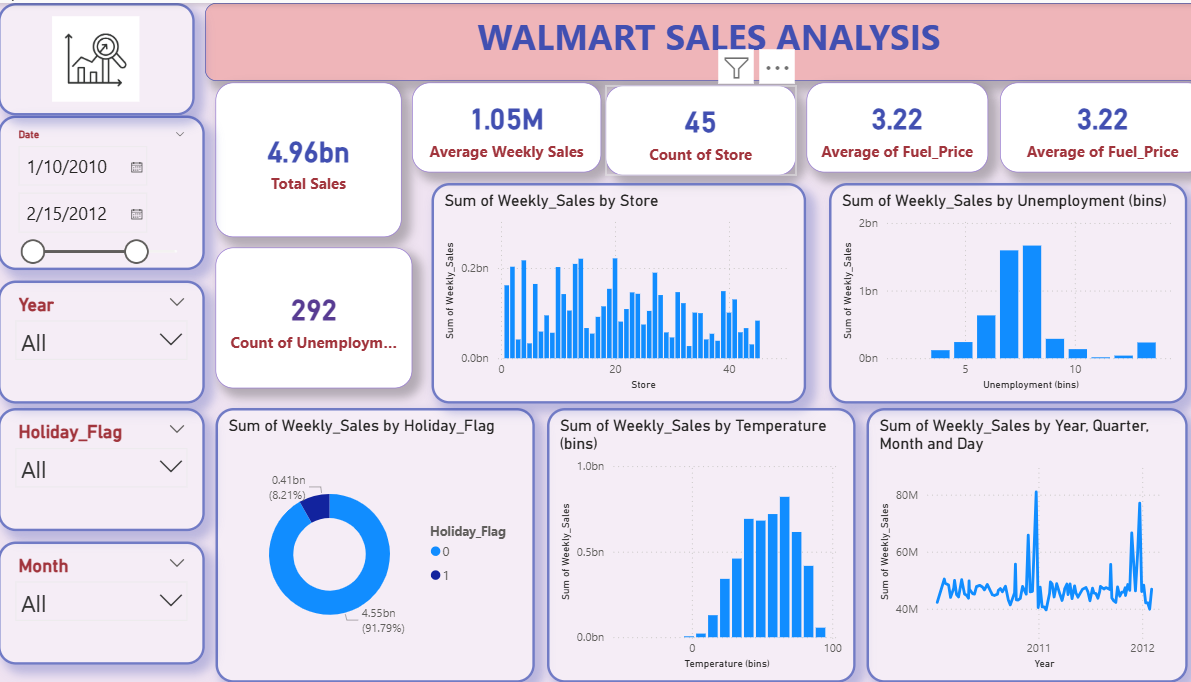

This screenshot's page, from the dashboard's own definition file:
{"tool":"powerbi","page":{"name":"Page 1","canvas":[1280,720],"ordinal":0},"visuals":[{"type":"textbox","box":[219.5,0,1059.3,82.7],"z":0},{"type":"card","fields":{"Values":["Sum(Walmart_Sales.Weekly_Sales)"]},"box":[230.6,84.3,197.2,163.8],"z":1000},{"type":"card","fields":{"Values":["Avg(Walmart_Sales.Weekly_Sales)"]},"box":[439,84.3,200.4,95.4],"z":2000},{"type":"slicer","fields":{"Values":["Walmart_Sales.Date"]},"box":[0,119.3,219.5,163.8],"z":3000},{"type":"card","fields":{"Values":["Count(Walmart_Sales.Store)"]},"box":[644.2,87.5,202,95.4],"z":4000},{"type":"card","fields":{"Values":["Avg(Walmart_Sales.Fuel_Price)"]},"box":[857.3,84.3,192.5,95.4],"z":5000},{"type":"card","fields":{"Values":["Avg(Walmart_Sales.Fuel_Price)"]},"box":[1062.5,84.3,217.9,95.4],"z":6000},{"type":"slicer","fields":{"Values":["Walmart_Sales.Date.Variation.Date Hierarchy.Year"]},"box":[0,294.3,219.5,130.4],"z":7000},{"type":"donutChart","fields":{"Category":["Walmart_Sales.Holiday_Flag"],"Y":["Sum(Walmart_Sales.Weekly_Sales)"]},"box":[230.6,429.5,338.8,291.1],"z":8000},{"type":"clusteredColumnChart","fields":{"Y":["Sum(Walmart_Sales.Weekly_Sales)"],"Category":["Walmart_Sales.Store"]},"box":[459.7,190.9,397.7,233.8],"z":9000},{"type":"columnChart","fields":{"Category":["Walmart_Sales.Unemployment (bins)"],"Y":["Sum(Walmart_Sales.Weekly_Sales)"]},"box":[881.2,190.9,380.2,233.8],"z":10000},{"type":"columnChart","fields":{"Category":["Walmart_Sales.Temperature (bins)"],"Y":["Sum(Walmart_Sales.Weekly_Sales)"]},"box":[582.2,429.5,327.7,291.1],"z":11000},{"type":"slicer","fields":{"Values":["Walmart_Sales.Holiday_Flag"]},"box":[0,429.5,219.5,130.4],"z":12000},{"type":"slicer","fields":{"Values":["Walmart_Sales.Date.Variation.Date Hierarchy.Month"]},"box":[0,571,219.5,130.4],"z":13000},{"type":"lineChart","fields":{"Y":["Sum(Walmart_Sales.Weekly_Sales)"],"Category":["Walmart_Sales.Date.Variation.Date Hierarchy.Year","Walmart_Sales.Date.Variation.Date Hierarchy.Quarter","Walmart_Sales.Date.Variation.Date Hierarchy.Month","Walmart_Sales.Date.Variation.Date Hierarchy.Day"]},"box":[921,429.5,340.4,291.1],"z":14000},{"type":"card","fields":{"Values":["Count(Walmart_Sales.Unemployment)"]},"box":[230.6,259.3,208.4,149.5],"z":15000},{"type":"image","box":[0,0,208.4,119.3],"z":15001}]}

Visuals, with their boxes in screenshot pixels (x1, y1, x2, y2), scaled from the page's 1280x720 canvas onto the 1191x682 screenshot:
textbox: 204/0/1190/78
card - Sum(Walmart_Sales.Weekly_Sales): 215/80/398/235
card - Avg(Walmart_Sales.Weekly_Sales): 408/80/595/170
slicer - Walmart_Sales.Date: 0/113/204/268
card - Count(Walmart_Sales.Store): 599/83/787/173
card - Avg(Walmart_Sales.Fuel_Price): 798/80/977/170
card - Avg(Walmart_Sales.Fuel_Price): 989/80/1190/170
slicer - Walmart_Sales.Date.Variation.Date Hierarchy.Year: 0/279/204/402
donutChart - Walmart_Sales.Holiday_Flag x Sum(Walmart_Sales.Weekly_Sales): 215/407/530/681
clusteredColumnChart - Sum(Walmart_Sales.Weekly_Sales) x Walmart_Sales.Store: 428/181/798/402
columnChart - Walmart_Sales.Unemployment (bins) x Sum(Walmart_Sales.Weekly_Sales): 820/181/1174/402
columnChart - Walmart_Sales.Temperature (bins) x Sum(Walmart_Sales.Weekly_Sales): 542/407/847/681
slicer - Walmart_Sales.Holiday_Flag: 0/407/204/530
slicer - Walmart_Sales.Date.Variation.Date Hierarchy.Month: 0/541/204/664
lineChart - Sum(Walmart_Sales.Weekly_Sales) x Walmart_Sales.Date.Variation.Date Hierarchy.Year: 857/407/1174/681
card - Count(Walmart_Sales.Unemployment): 215/246/408/387
image: 0/0/194/113
